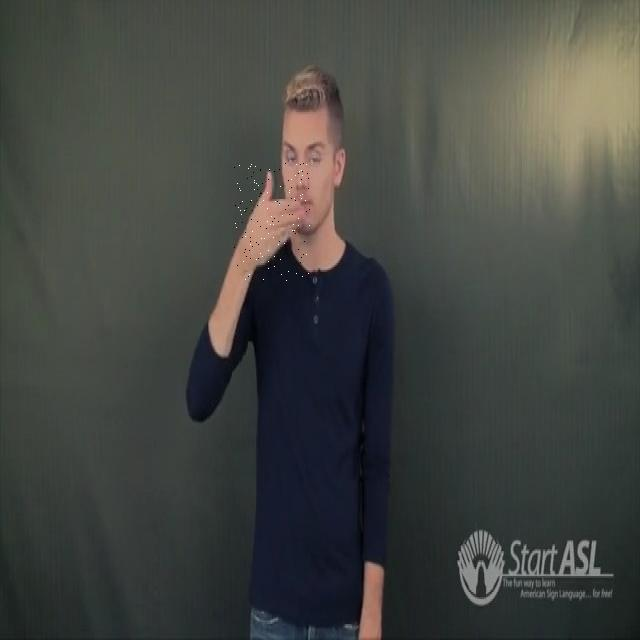pizza: (234, 163, 310, 281)
